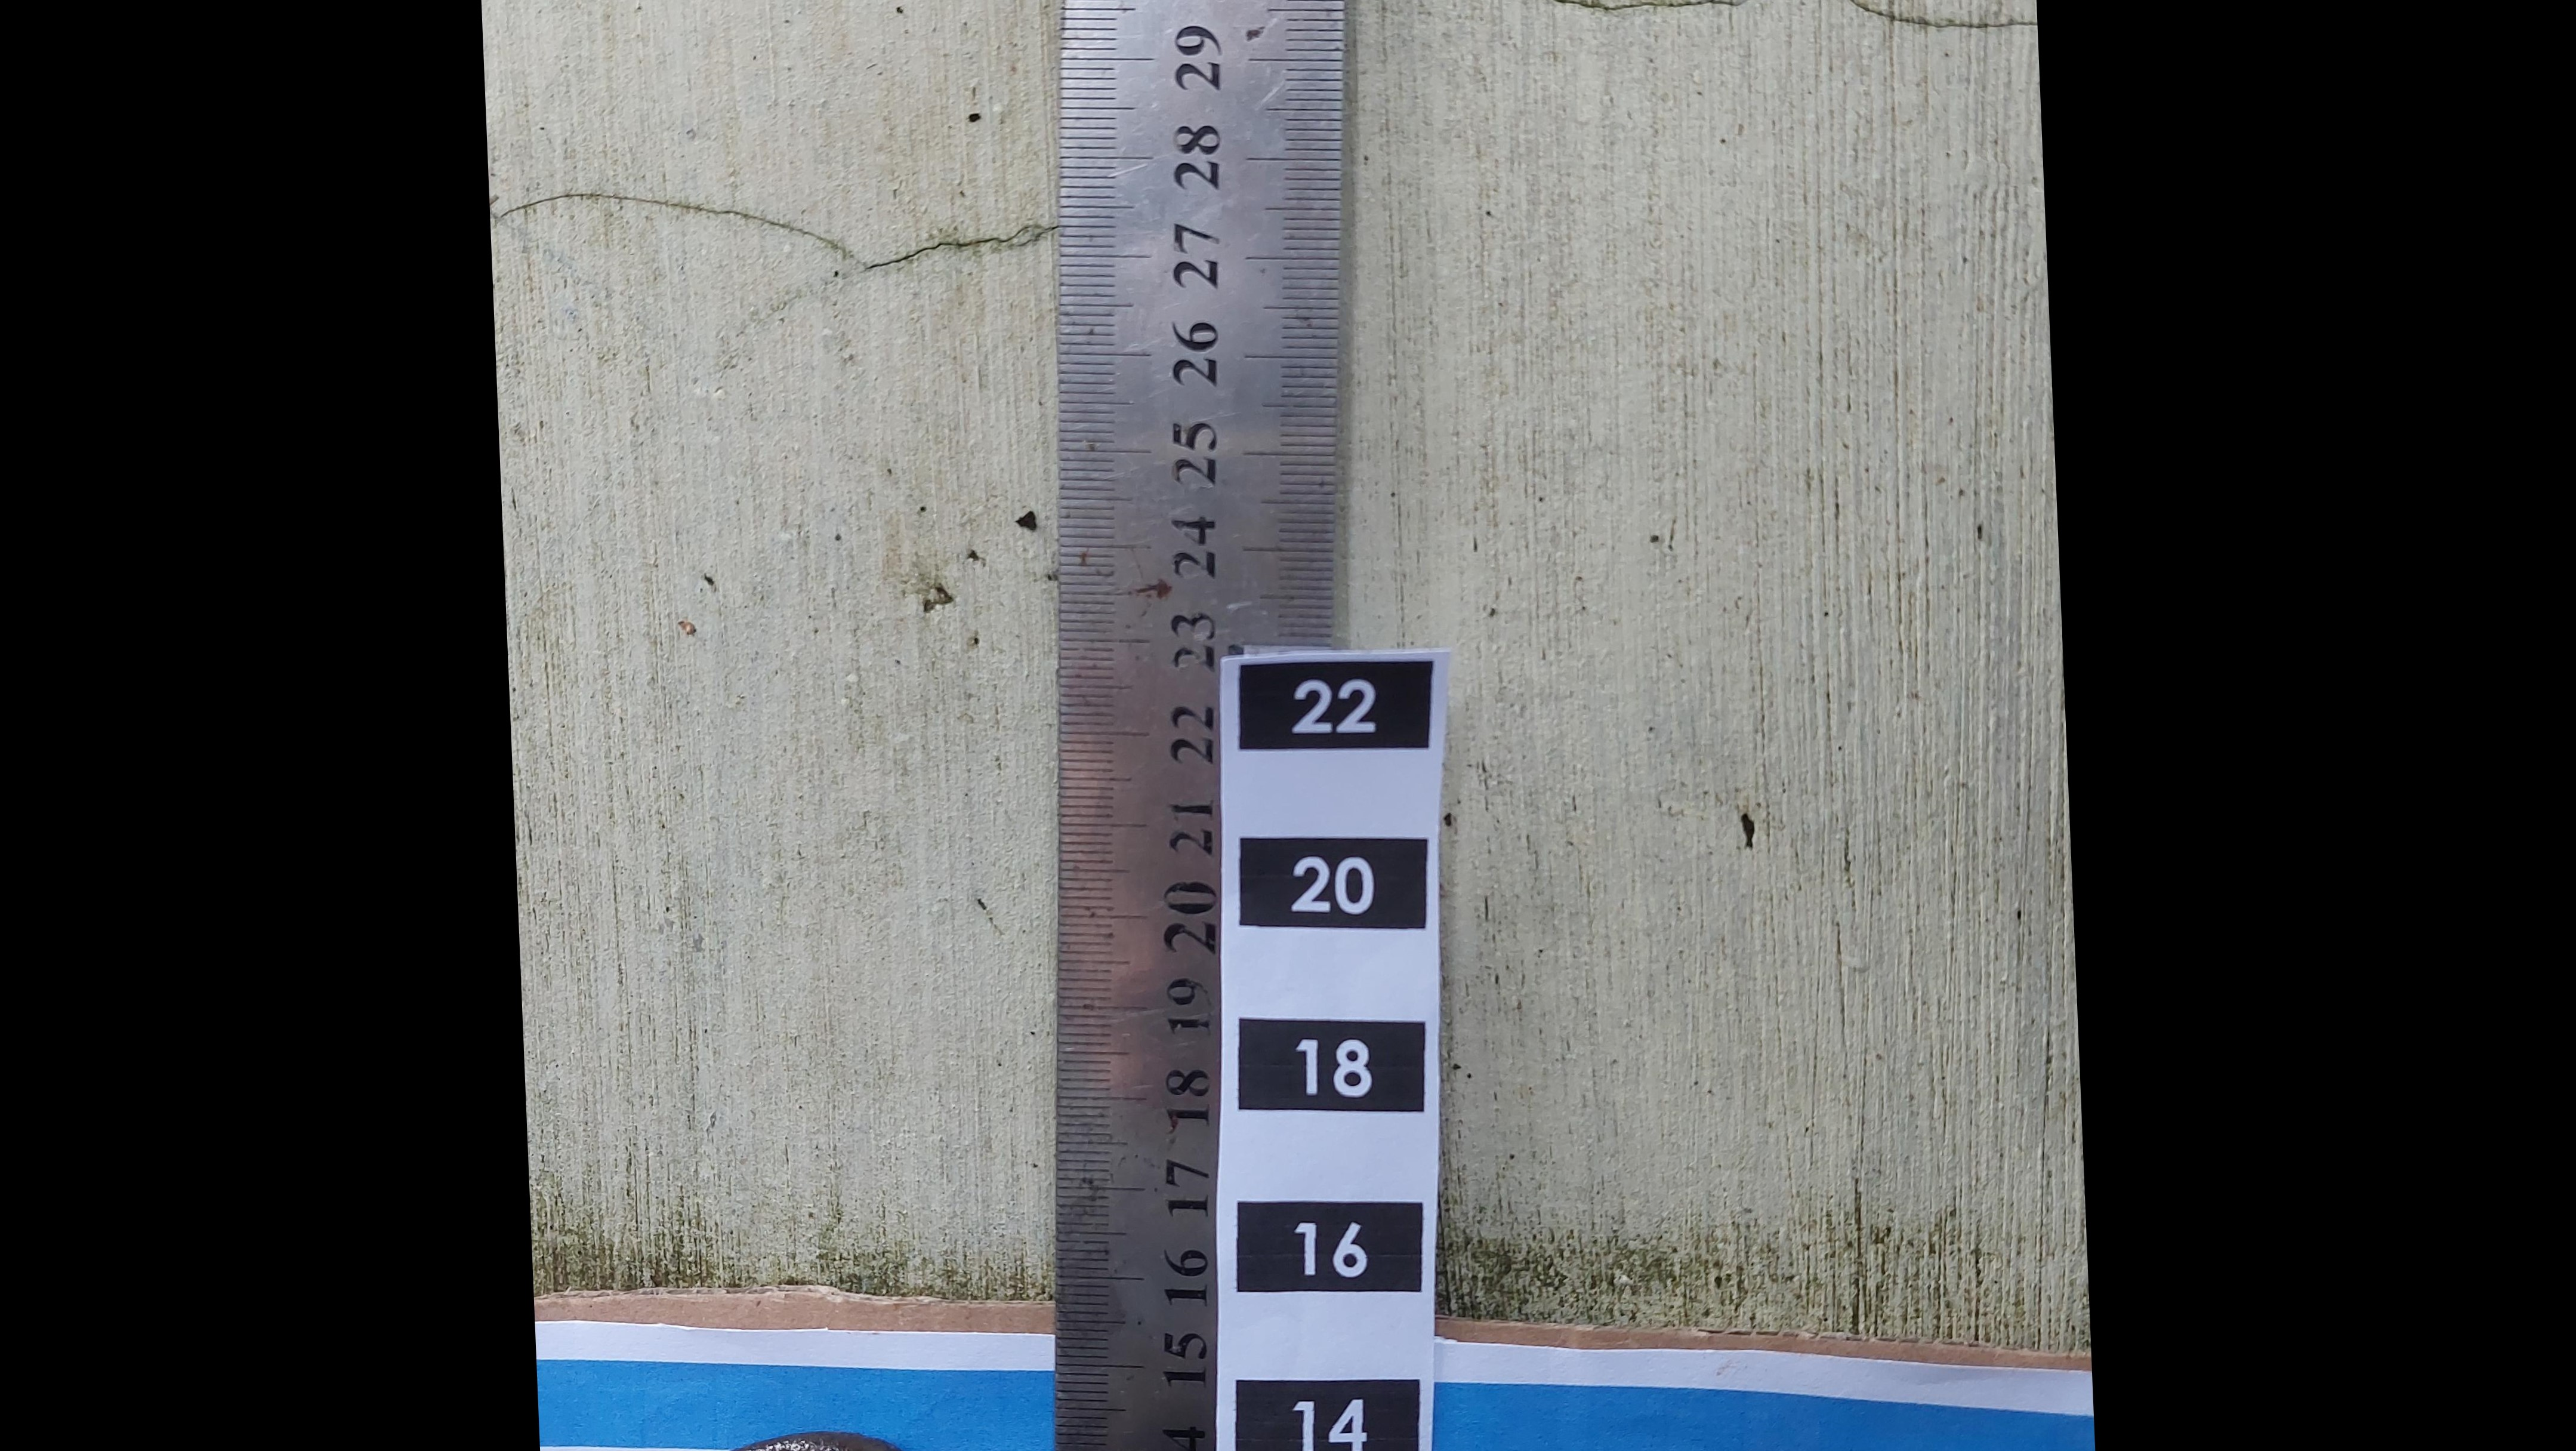kotak_2x1: (1235, 1016, 1422, 1115), (1237, 1201, 1421, 1294), (1237, 839, 1422, 929), (1240, 662, 1428, 749)
